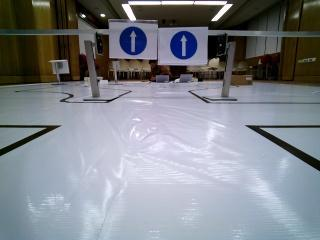straight: (157, 26, 208, 66), (111, 19, 158, 60)
